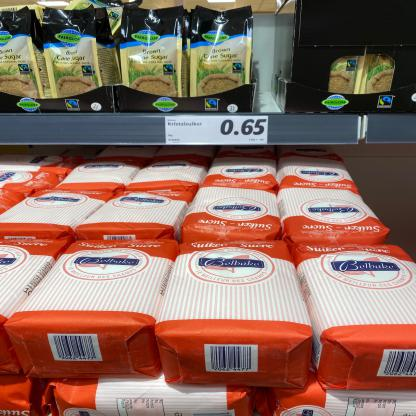prtg: (166, 117, 269, 145)
